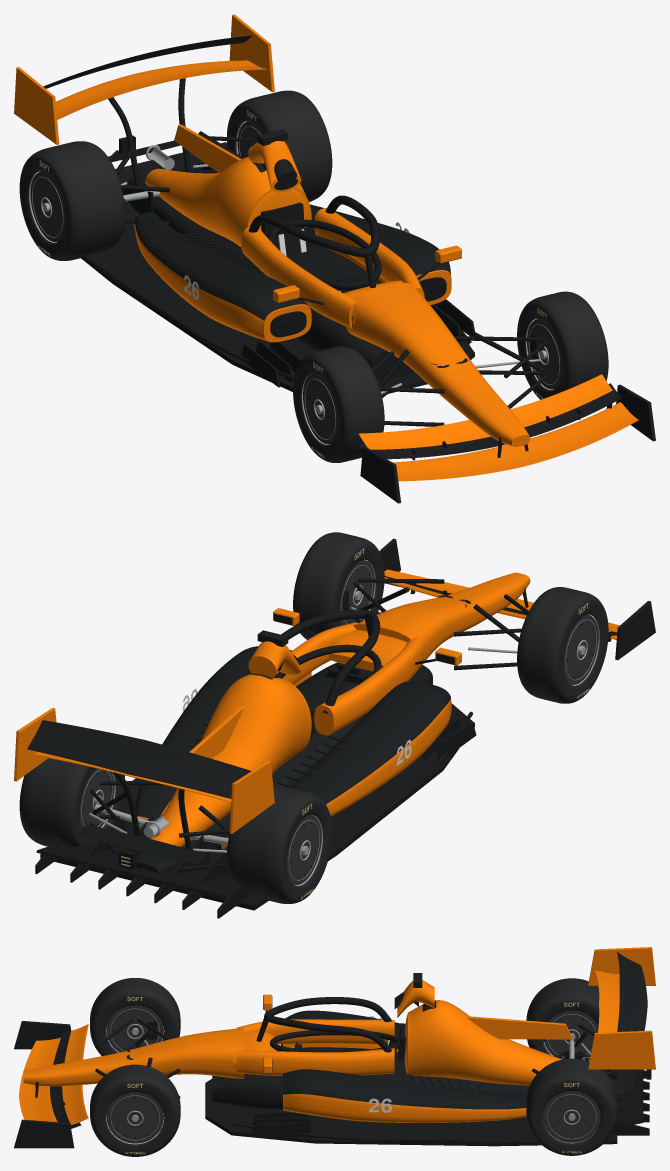
File: reference-26.glb
3 renders of one model, top to bottom at view 1: azimuth 30°, elevation 25°; view 2: azimuth 150°, elevation 25°; view 3: azimuth 270°, elevation 25°, orthographic. The views are drawn at different scales.
Parts seen in each view (by area): view 1: Nose_body, Floor_carbon, RearLeftWheel_tire, Bodywork_body, Sidepods_secondary, RearWing_body, FrontLeftWheel_tire, Bodywork_secondary, Cockpit_body, FrontWing_body, FrontRightWheel_tire, RearRightWheel_tire (+18 smaller); view 2: Sidepods_secondary, Bodywork_body, RearFlap_secondary, RearLeftWheel_tire, FrontLeftWheel_tire, Floor_carbon, Cockpit_body, Diffuser_carbon, Nose_body, RearRightWheel_tire, FrontRightWheel_tire, Bodywork_secondary (+15 smaller); view 3: Bodywork_body, Floor_carbon, Nose_body, Sidepods_secondary, Cockpit_body, RearWing_body, RearRightWheel_tire, Sidepods_body, FrontRightWheel_tire, Bodywork_secondary, FrontLeftWheel_tire, FrontWing_secondary (+18 smaller).
Part boxes in pixels (x1,y1,x2,y2): Nose_body: (346,283,530,446); Floor_carbon: (81,226,474,393); RearLeftWheel_tire: (19,141,124,260); Bodywork_body: (145,124,311,247); Sidepods_secondary: (134,204,450,320); RearWing_body: (14,14,274,144); FrontLeftWheel_tire: (293,346,384,462); Bodywork_secondary: (128,162,414,379); Cockpit_body: (241,208,424,328); FrontWing_body: (393,402,638,481); FrontRightWheel_tire: (517,291,608,399); RearRightWheel_tire: (227,90,332,201); Sidepods_secondary: (135,646,450,837); Bodywork_body: (150,674,311,846); RearFlap_secondary: (27,720,251,798); RearLeftWheel_tire: (227,784,332,903); FrontLeftWheel_tire: (517,587,608,703); Floor_carbon: (40,703,476,910); Cockpit_body: (276,622,424,735); Diffuser_carbon: (35,808,249,918); Nose_body: (353,572,530,673); RearRightWheel_tire: (19,758,124,846); FrontRightWheel_tire: (293,532,384,639); Bodywork_secondary: (136,662,432,872); Bodywork_body: (404,1000,572,1085); Floor_carbon: (205,1079,617,1146); Nose_body: (23,1027,244,1086); Sidepods_secondary: (283,1010,526,1109); Cockpit_body: (233,1019,394,1076); RearWing_body: (588,947,655,1069); RearRightWheel_tire: (526,1058,617,1155); Sidepods_body: (263,994,526,1122); FrontRightWheel_tire: (90,1064,180,1156); Bodywork_secondary: (212,1000,623,1109); FrontLeftWheel_tire: (90,978,180,1055); FrontWing_secondary: (14,1021,74,1148).
Bounding box in the file's own units: 1.9 × 1.12 × 5.
